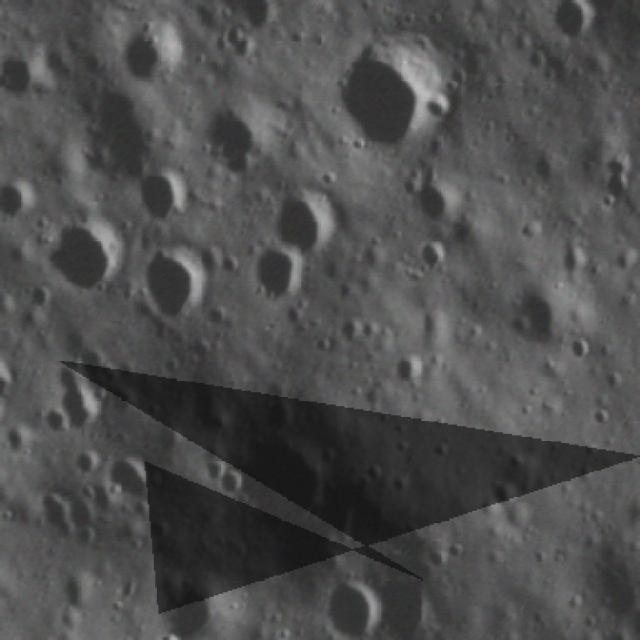crater: (328, 30, 446, 158), (234, 431, 332, 537), (258, 185, 353, 267), (134, 236, 217, 329), (46, 206, 126, 302), (194, 98, 286, 177), (145, 563, 229, 640), (112, 12, 188, 92), (238, 238, 313, 316), (506, 270, 574, 355), (368, 563, 441, 640), (56, 352, 110, 442), (317, 575, 380, 639), (132, 162, 192, 229), (4, 43, 47, 109), (544, 5, 602, 50), (414, 172, 460, 228), (1, 168, 42, 228), (107, 448, 155, 499), (486, 470, 534, 516), (590, 157, 635, 205), (61, 565, 96, 618), (413, 230, 449, 278), (422, 538, 469, 574), (64, 442, 105, 482), (214, 466, 248, 508), (395, 348, 427, 386), (338, 313, 368, 352), (36, 405, 72, 437), (194, 450, 226, 484), (4, 423, 33, 457), (562, 331, 593, 362)
